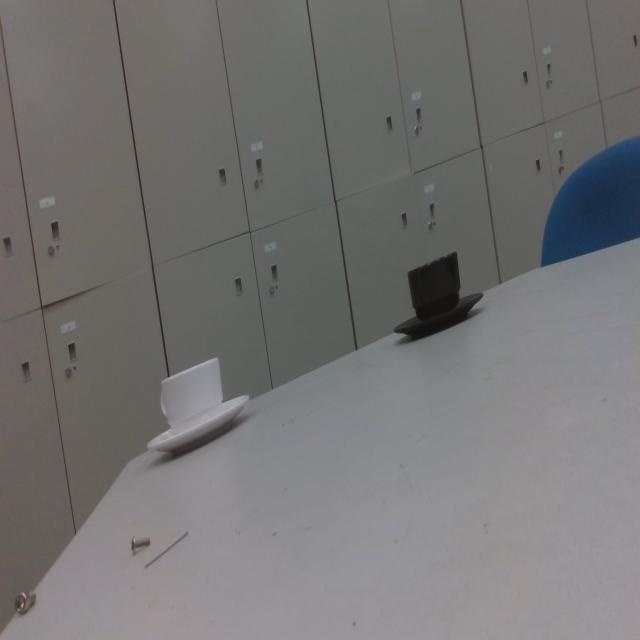black: (387, 244, 485, 344)
white: (142, 335, 253, 468)
